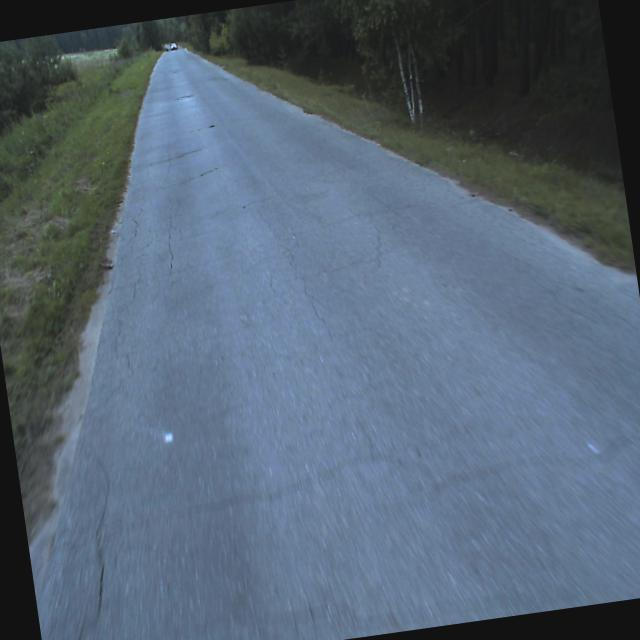road: (36, 48, 640, 640)
